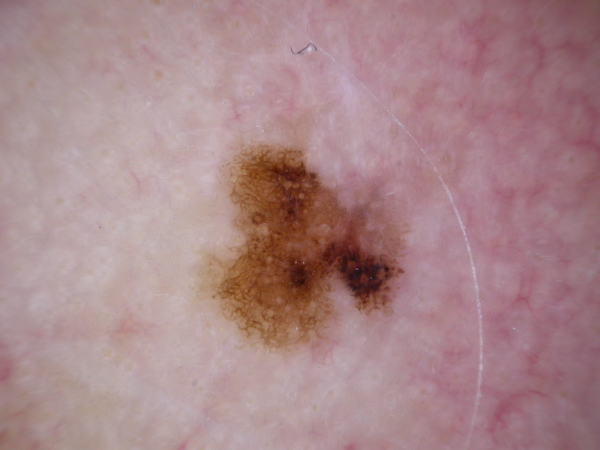Detected Lesion: (209, 139, 422, 350)
